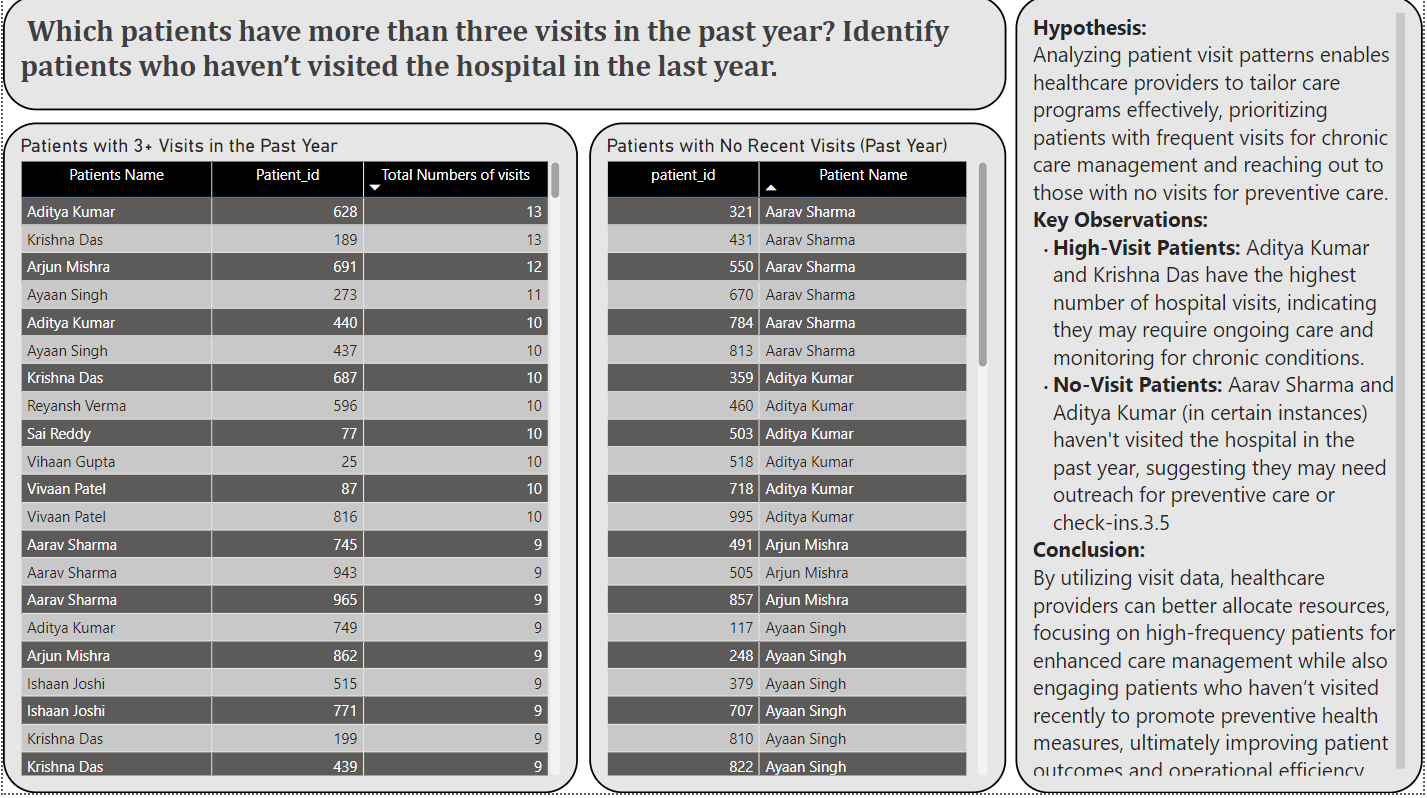

What the dashboard file says about the page in this screenshot:
{"tool":"powerbi","page":{"name":"Page 2","canvas":[1280,720],"ordinal":1},"visuals":[{"type":"tableEx","title":"Patients with 3+ Visits in the Past Year","fields":{"Values":["03.Name","03.Patient_id","03.Num_of_visits"]},"box":[0,115.3,518.7,605.1],"z":0},{"type":"tableEx","title":"Patients with No Recent Visits (Past Year)","fields":{"Values":["04.patient_id","04.name"]},"box":[528.3,115.3,376,605.1],"z":1000},{"type":"textbox","box":[0,0,904.9,103.9],"z":2000},{"type":"textbox","box":[913.5,0,366.8,720.2],"z":3000}]}

Visuals, with their boxes in screenshot pixels (x1, y1, x2, y2), scaled from the page's 1280x720 canvas onto the 1427x798 screenshot:
"Patients with 3+ Visits in the Past Year" tableEx: 0:128:578:797
"Patients with No Recent Visits (Past Year)" tableEx: 589:128:1008:797
textbox: 0:0:1009:115
textbox: 1018:0:1426:797
